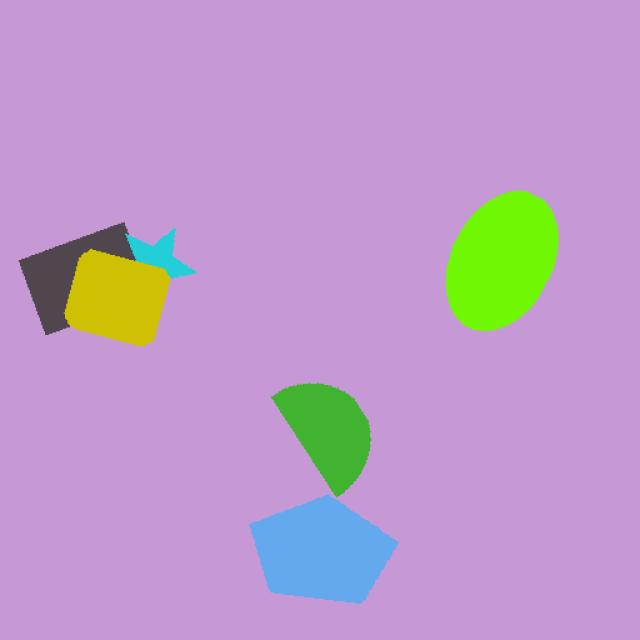Oval: (444, 178, 566, 344)
Pentagon: (230, 479, 417, 613)
Rectangle: (15, 214, 152, 335), (62, 248, 180, 346)
Semicircle: (268, 368, 392, 496)
Star: (107, 211, 211, 310)
